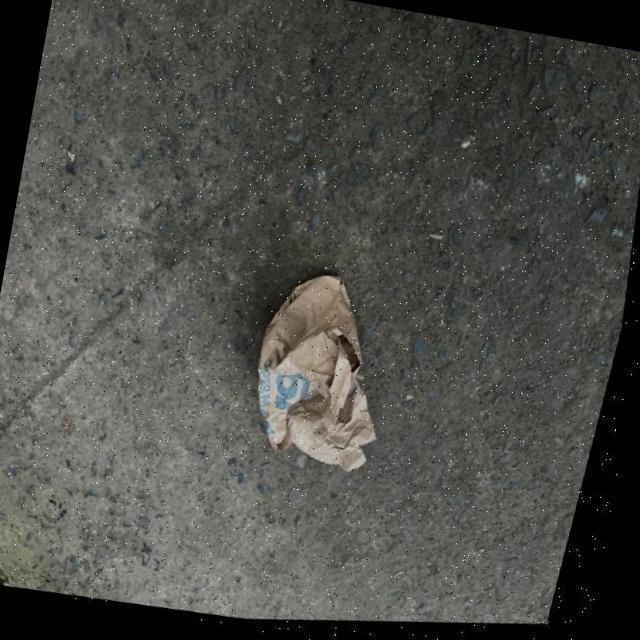Paper_Bag: (230, 256, 425, 500)
